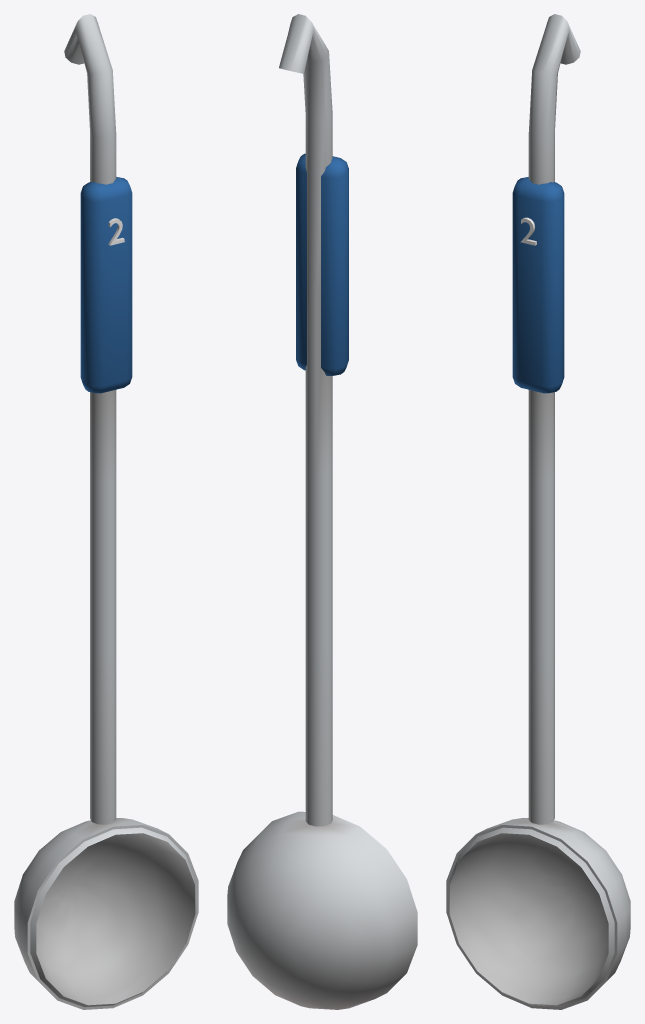
The model's file is fp-ladle-2.gltf.
3 renders of one model, left to right at view 1: azimuth 30°, elevation 25°; view 2: azimuth 150°, elevation 25°; view 3: azimuth 330°, elevation 25°, orthographic. The views are drawn at different scales.
Parts seen in each view (by area): view 1: model; view 2: model; view 3: model.
Part boxes in pixels (left/top/right/bottom): model: left=14, top=14, right=198, bottom=1009; model: left=227, top=14, right=417, bottom=1009; model: left=446, top=14, right=630, bottom=1009.
Bounding box in the file's own units: 0.06 × 0.3267 × 0.0329.
